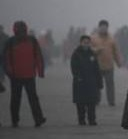person: (2, 21, 49, 129), (70, 35, 104, 125), (91, 18, 123, 106), (1, 25, 10, 94), (45, 27, 56, 66), (118, 26, 128, 67), (37, 29, 47, 68), (67, 25, 74, 62), (62, 36, 70, 62), (74, 26, 81, 44), (79, 26, 87, 35)
